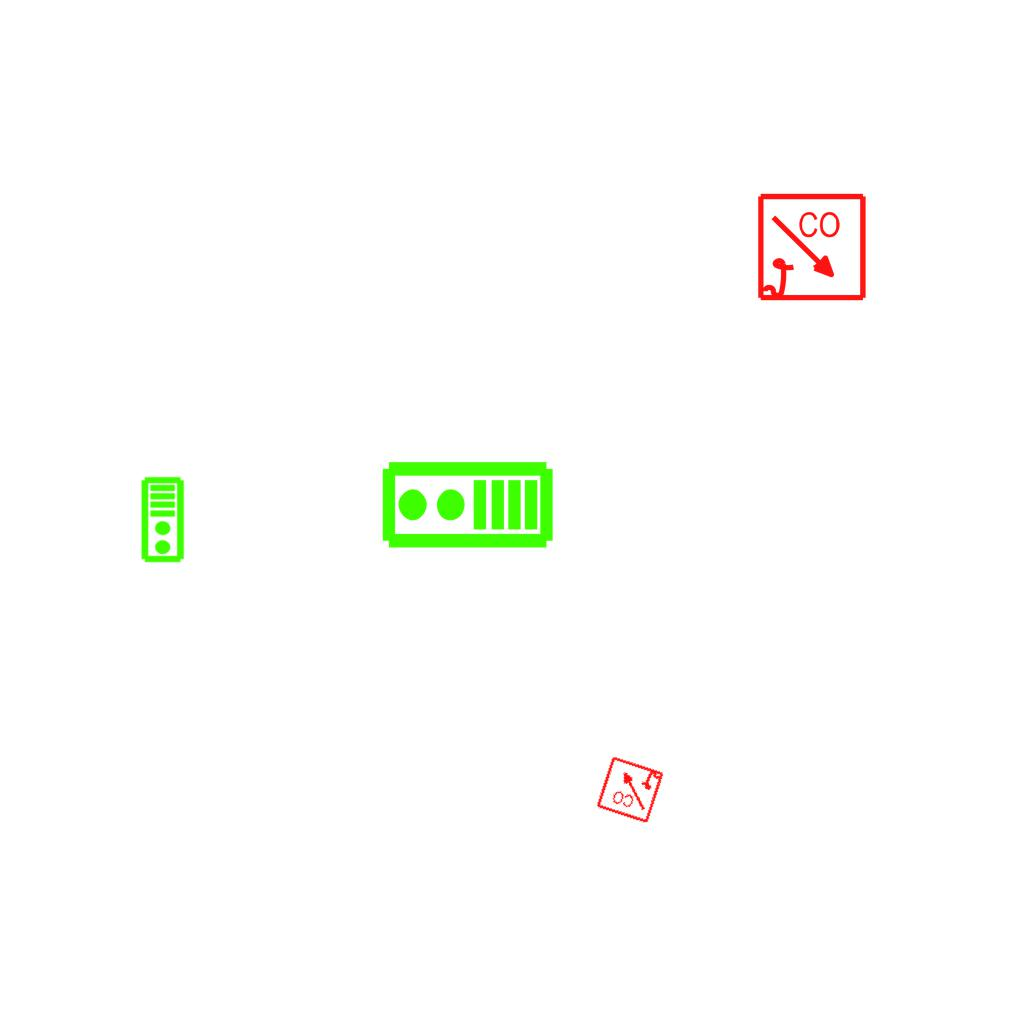Gegensprechanlage_mit_Video: (379, 459, 555, 554), (140, 476, 187, 564)
ROA_Rauchmelder_optisch_mit_Signalgeber_(Sockelsirene): (756, 192, 869, 305), (594, 753, 666, 825)
